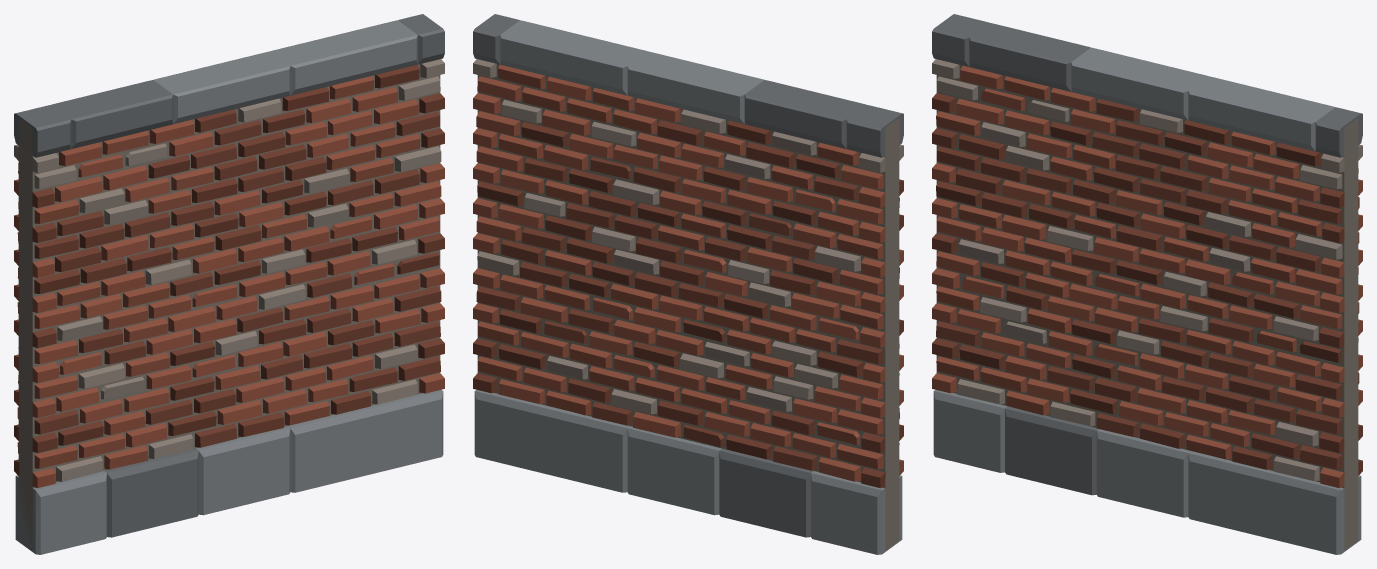
Rendered from SM_LPD_Struct_WallBrick_01.fbx.
The picture shows the model from 3 angles, left to right: view 1: azimuth 30°, elevation 25°; view 2: azimuth 150°, elevation 25°; view 3: azimuth 330°, elevation 25°; orthographic projection.
Parts seen in each view (by area): view 1: SM_LPD_Struct_WallBrick_01; view 2: SM_LPD_Struct_WallBrick_01; view 3: SM_LPD_Struct_WallBrick_01.
Part boxes in pixels (<box>): SM_LPD_Struct_WallBrick_01: <box>14,14,444,554</box>; SM_LPD_Struct_WallBrick_01: <box>473,14,903,554</box>; SM_LPD_Struct_WallBrick_01: <box>932,14,1362,554</box>.
Bounding box in the file's own units: 4 × 4 × 0.4.
